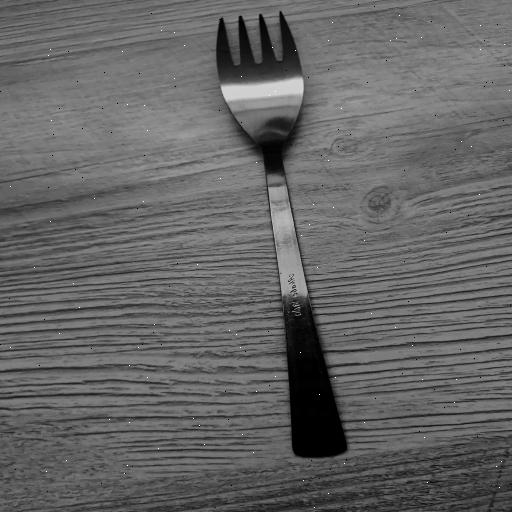fork: (211, 12, 350, 462)
